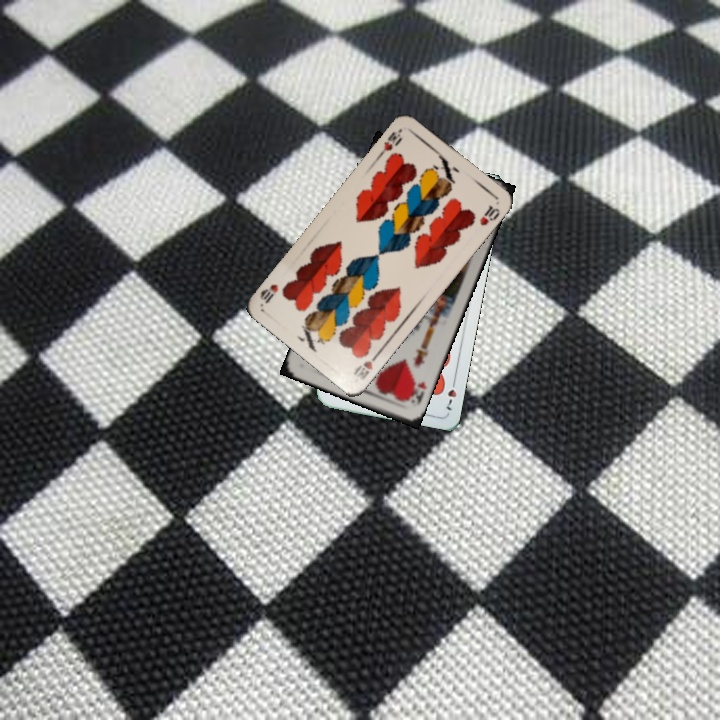H10: (349, 348, 382, 382), (375, 124, 405, 159)
H7: (442, 374, 459, 413)
HK: (403, 377, 429, 408)
